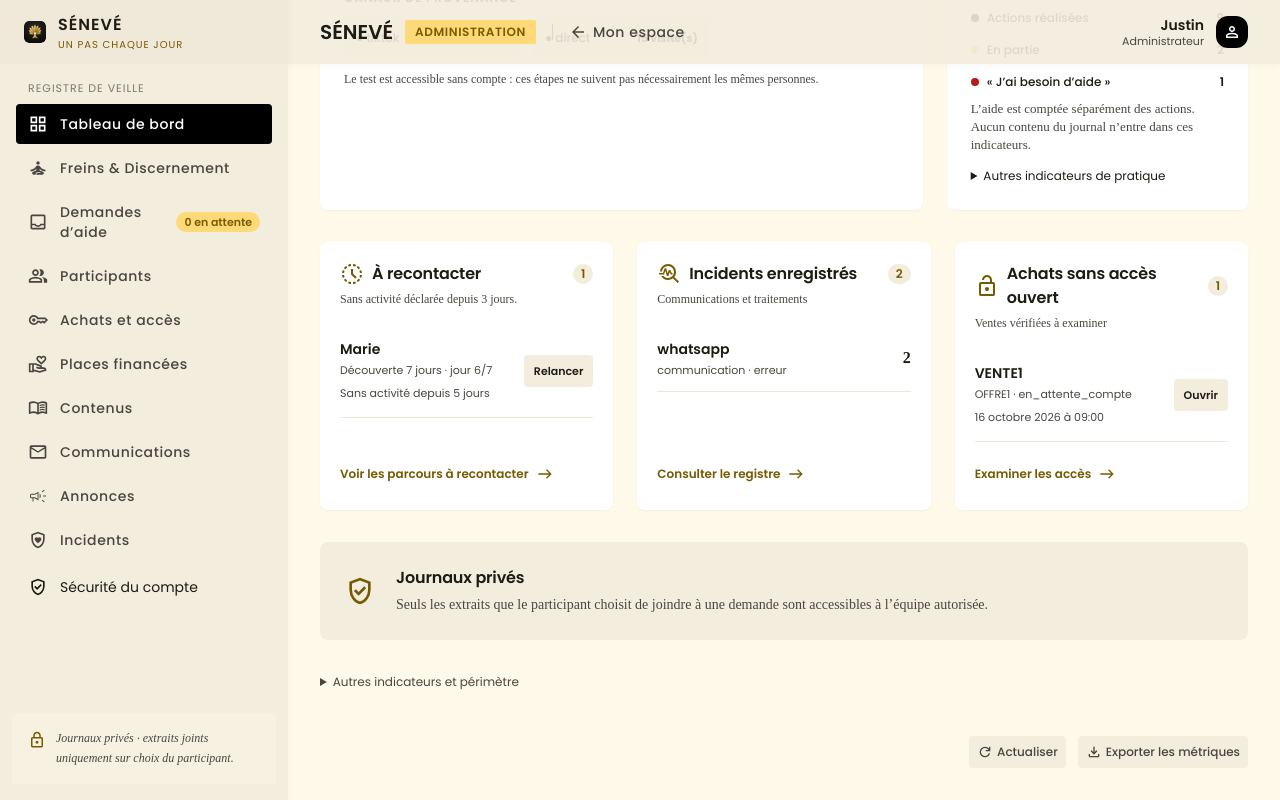
Test: le tableau ordinateur conserve les chiffres en cas de panne sans annoncer une fausse réussite
The width and height of the screenshot is (1280, 800).
(page scrolled)
Check: the text "VENTE1" is shown, box [975,363,1023,383]
Click the button "Actualiser": (1017, 752) [969,736,1066,768]
(page scrolled)
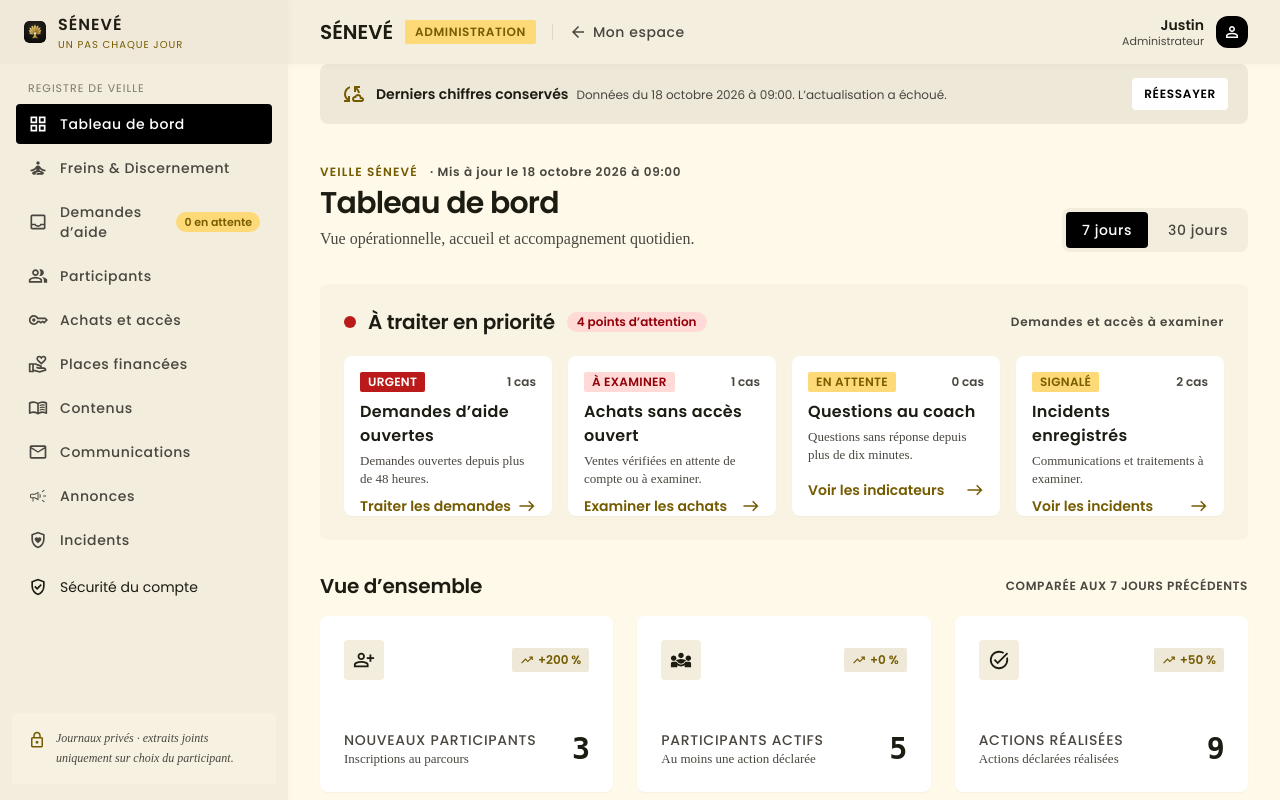
Check: the message shows "Derniers chiffres conservés", box [376,84,568,104]
Check: the message shows "18 octobre 2026", box [576,86,947,103]
